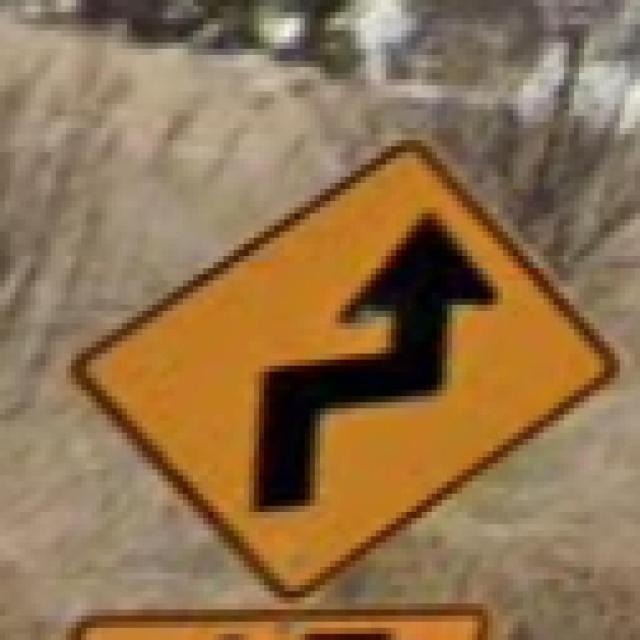Tikungan Ganda Pertama Ke Kanan: (51, 116, 615, 604)
